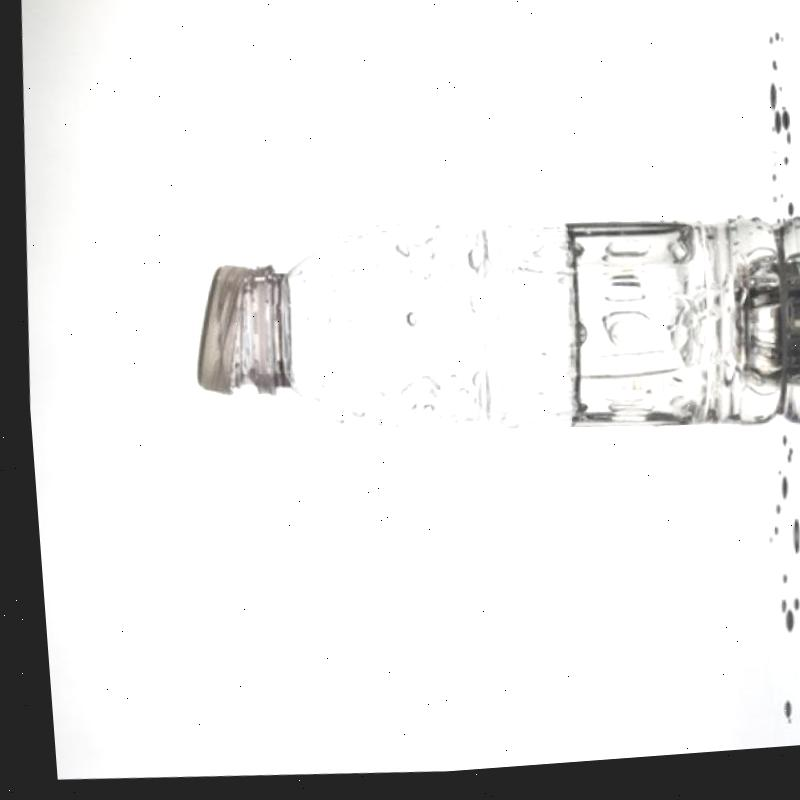botella: (174, 195, 797, 477)
